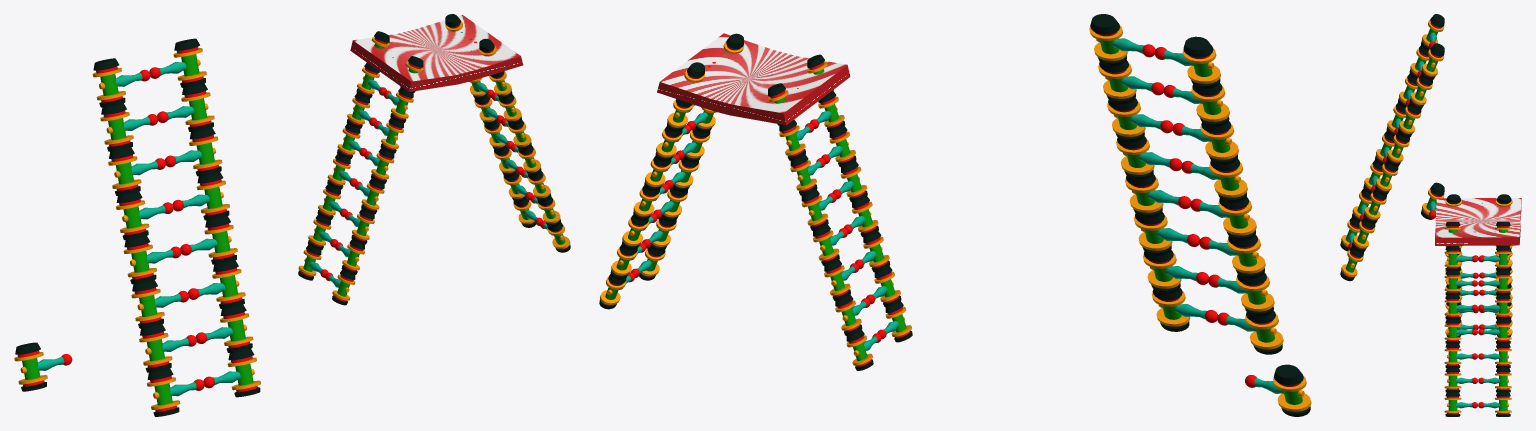
The model's file is Escalera Martillos.fbx.
3 renders of one model, left to right at view 1: azimuth 30°, elevation 25°; view 2: azimuth 150°, elevation 25°; view 3: azimuth 270°, elevation 25°, orthographic. The views are drawn at different scales.
Parts seen in each view (by area): view 1: Object065, Cylinder070, Object064; view 2: Object065, Cylinder070, Object064; view 3: Object065, Cylinder070, Object064.
Part boxes in pixels (x1=…): Object065: x1=298, y1=14, x2=570, y2=305; Cylinder070: x1=92, y1=38, x2=260, y2=416; Object064: x1=14, y1=342, x2=72, y2=391; Object065: x1=599, y1=33, x2=912, y2=370; Cylinder070: x1=1089, y1=14, x2=1283, y2=354; Object064: x1=1245, y1=364, x2=1311, y2=416; Object065: x1=1435, y1=194, x2=1521, y2=416; Cylinder070: x1=1340, y1=14, x2=1444, y2=281; Object064: x1=1421, y1=182, x2=1444, y2=219.
Size of the model in its own units: 120 by 63.61 by 44.77.
7 materials, 1 textured.
